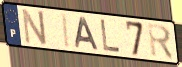7: (124, 19, 145, 58)
A: (74, 17, 101, 52)
I: (62, 12, 72, 50)
L: (99, 18, 122, 54)
N: (21, 7, 49, 46)
R: (146, 22, 175, 61)
